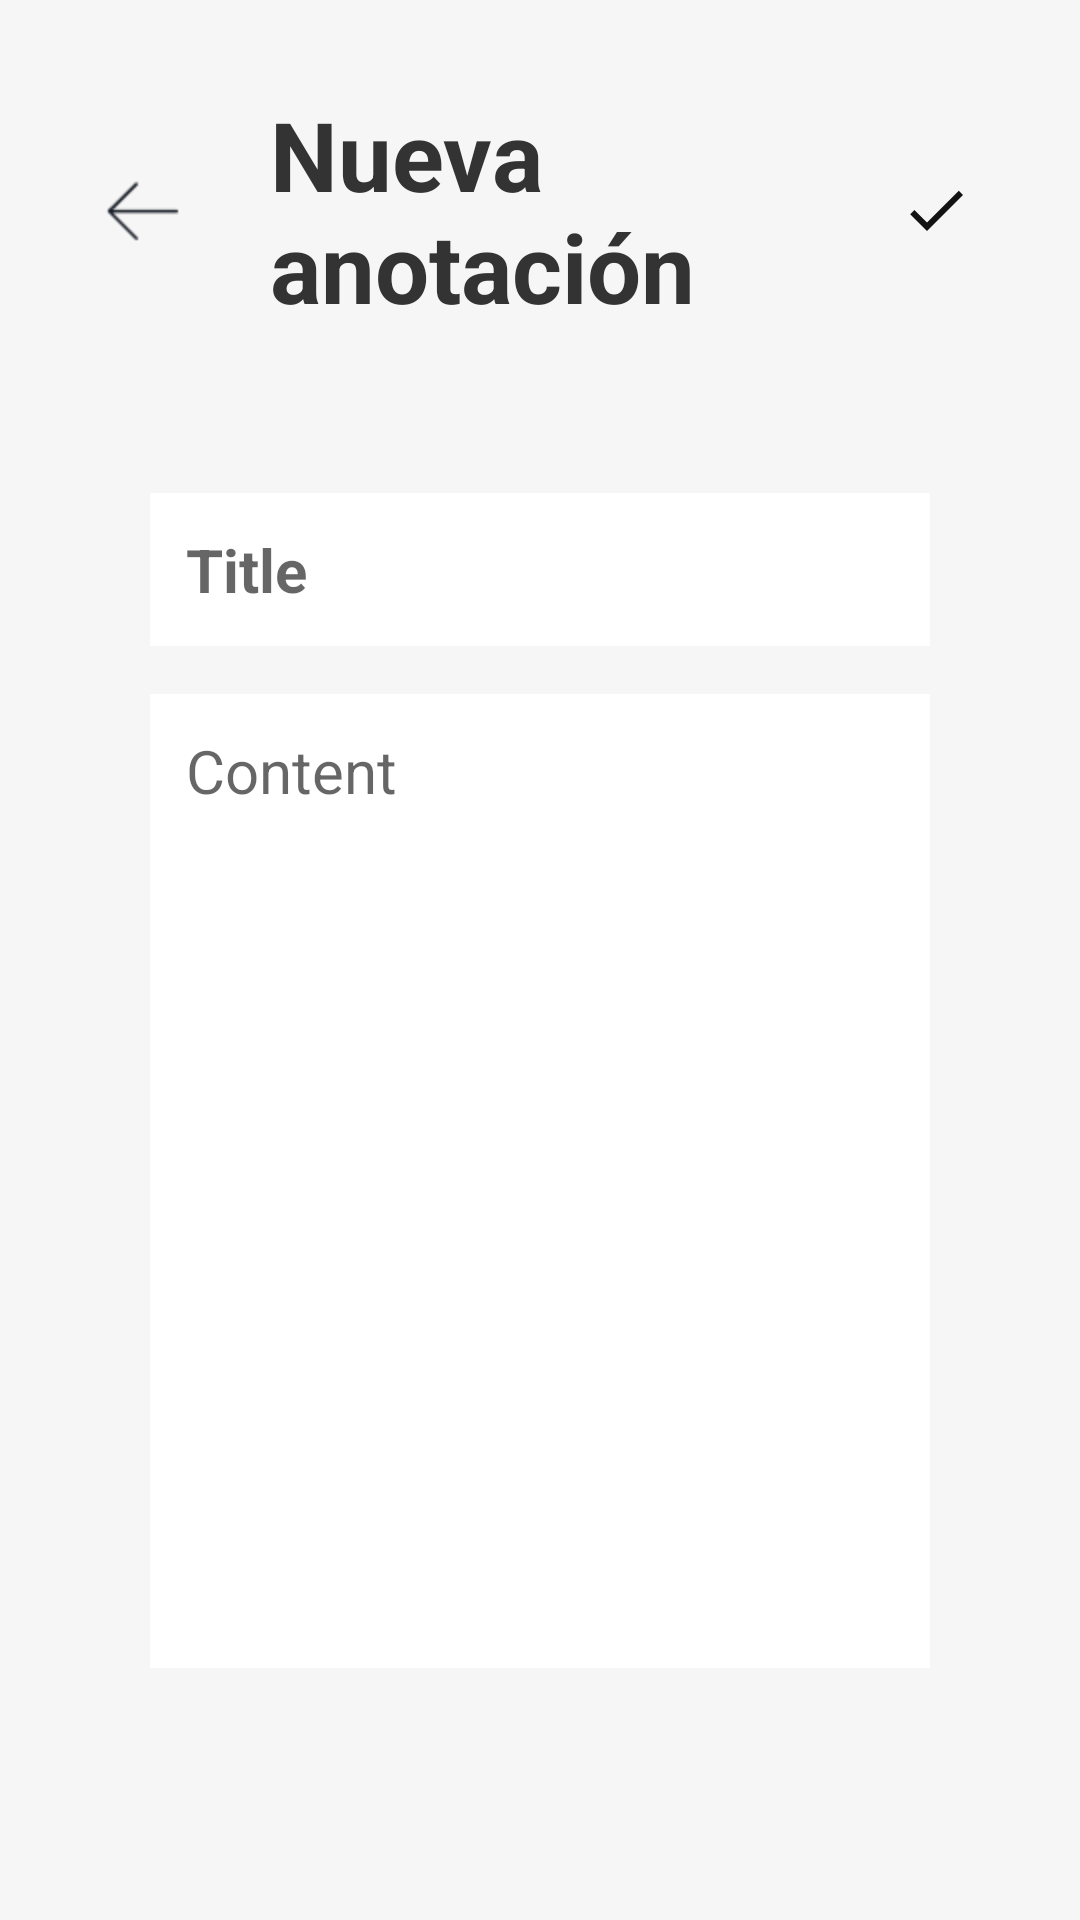

Icons on this 1080x1920 Android screen, each with its box as bbox(x1, y1, x2, y2):
aceptar: bbox(910, 191, 963, 231)
arrow: bbox(107, 181, 179, 241)
